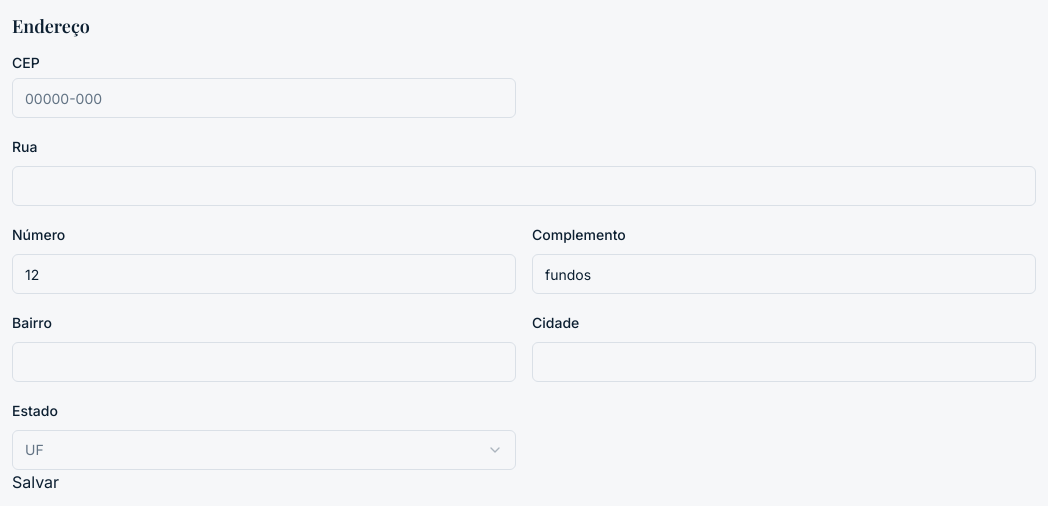
Test: MemberAddressSection com o CEP comum (E2.08, RN-09) › preenche rua, bairro, cidade e estado e não mexe em número e complemento
Type "90010000" into the field labelled "CEP" at (264, 98), box left=12, top=78, right=516, bottom=118
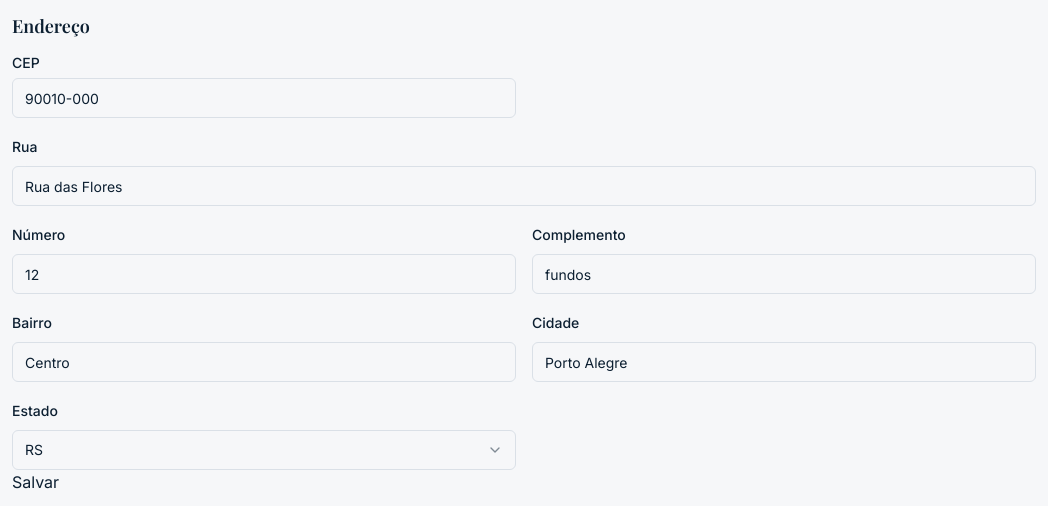
expect the field labelled "Rua" holds "Rua das Flores": met, box left=12, top=166, right=1036, bottom=206
expect the field labelled "Bairro" holds "Centro": met, box left=12, top=342, right=516, bottom=382
expect the field labelled "Cidade" holds "Porto Alegre": met, box left=532, top=342, right=1036, bottom=382
